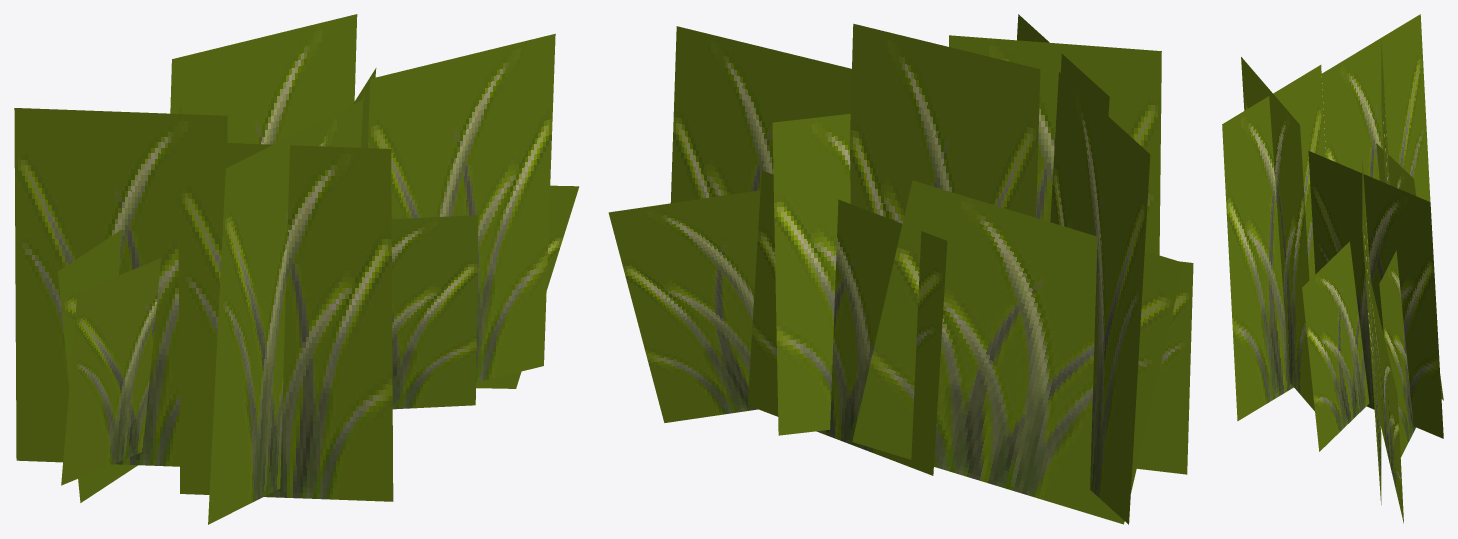
Rendered from plants_k003.FBX.
The picture shows the model from 3 angles, left to right: view 1: azimuth 30°, elevation 25°; view 2: azimuth 150°, elevation 25°; view 3: azimuth 270°, elevation 25°; orthographic projection. The views are drawn at different scales.
Visible parts, largest first — view 1: plants_k003; view 2: plants_k003; view 3: plants_k003.
Part boxes in pixels (x1=…): plants_k003: x1=14, y1=14, x2=579, y2=524; plants_k003: x1=608, y1=14, x2=1193, y2=524; plants_k003: x1=1222, y1=14, x2=1443, y2=523.
Size of the model in its own units: 3.24 by 2.41 by 1.4.
Materials: 1 (1 with a texture image).
